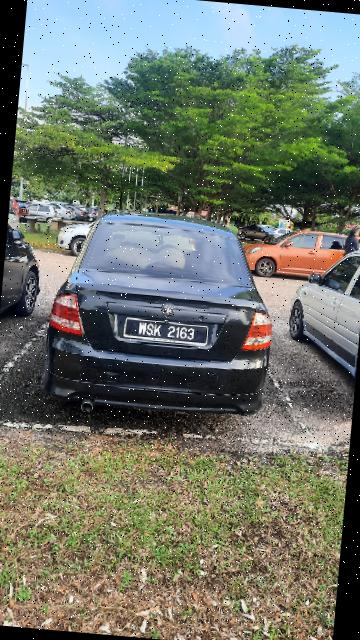License_Plate: (118, 313, 213, 351)
car: (39, 205, 281, 437)
